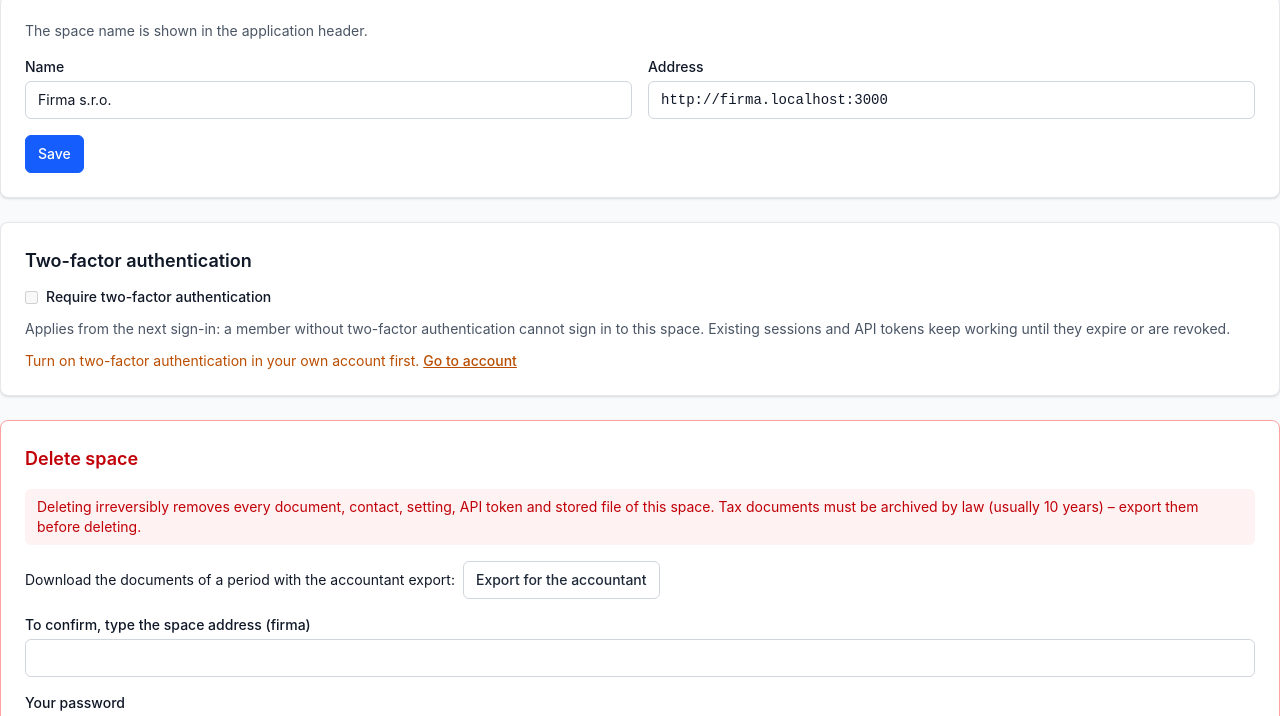
Test: SpaceTab › shows a wrong password and stays
Type "firma" into the field with test id "delete-slug".
click(640, 658); type("firma")  # box x1=25 y1=639 x2=1255 y2=677
(page scrolled)
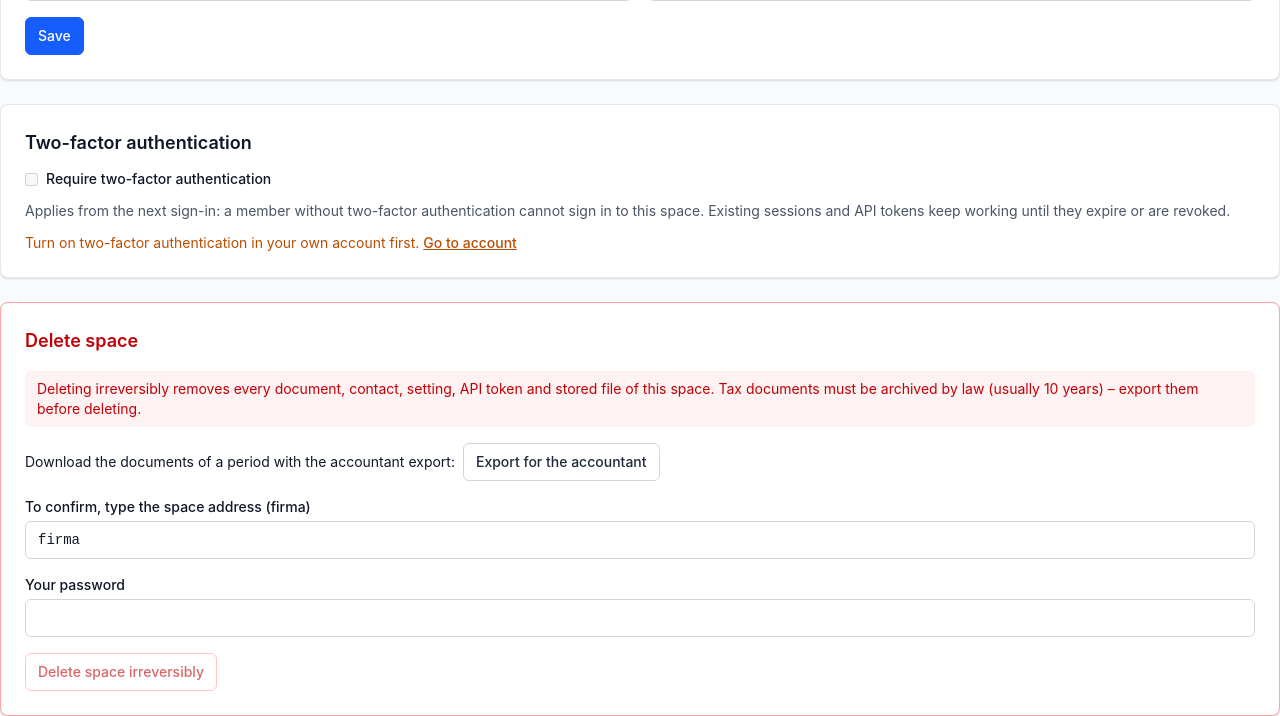
Type "wrong" into the password field with test id "delete-password".
click(640, 618); type("wrong")  # box x1=25 y1=599 x2=1255 y2=637
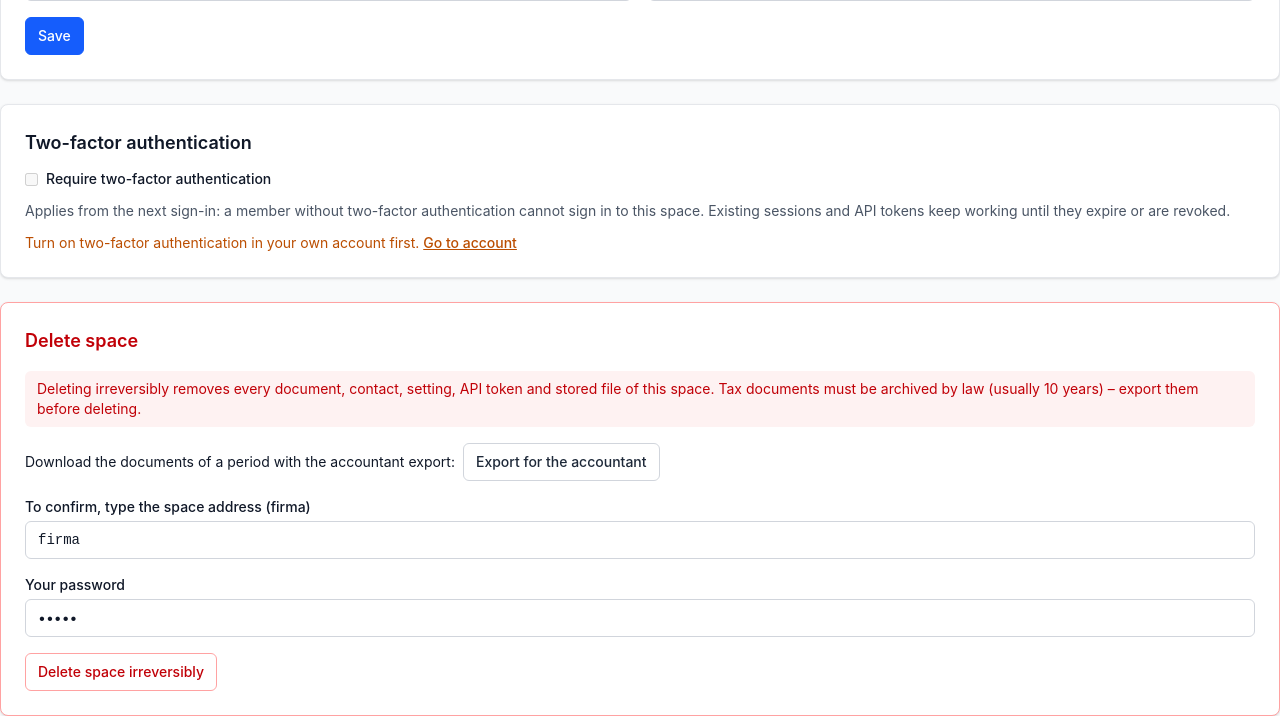
Submit the 2nd form, box x1=25 y1=497 x2=1255 y2=691
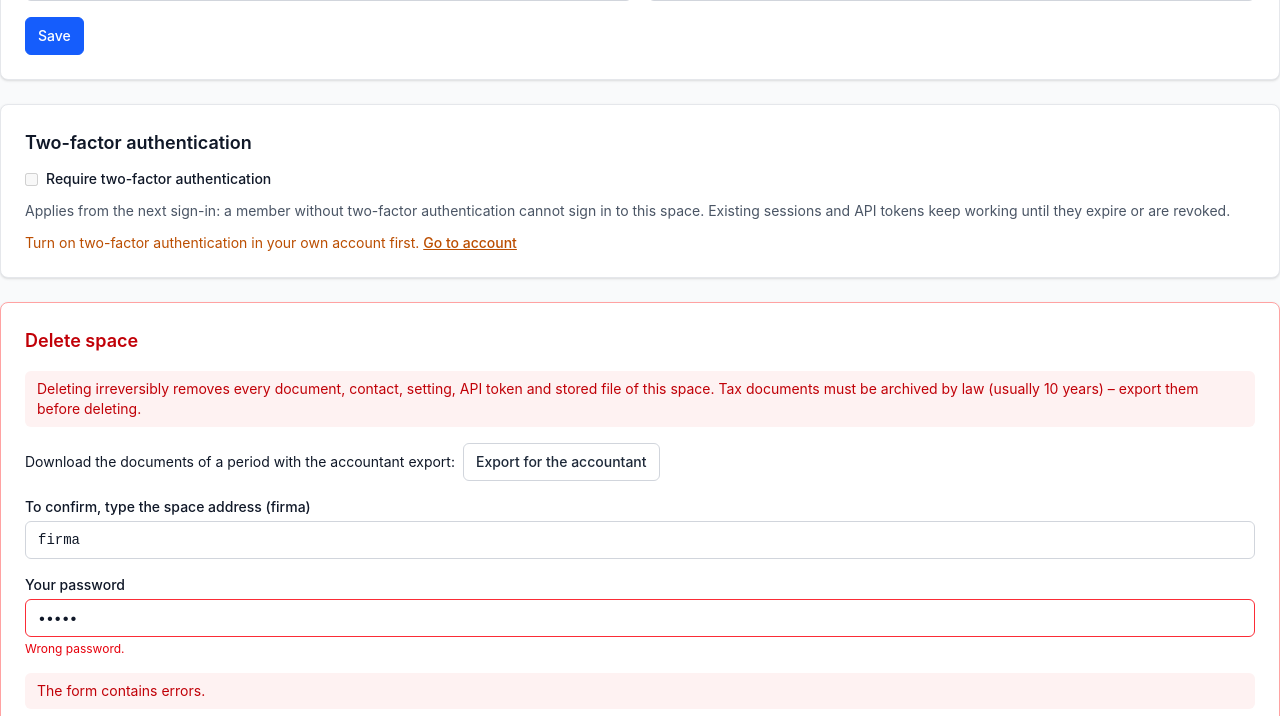
Now the text with id "delete-password-error" reads "Wrong password.", box x1=25 y1=641 x2=124 y2=656
